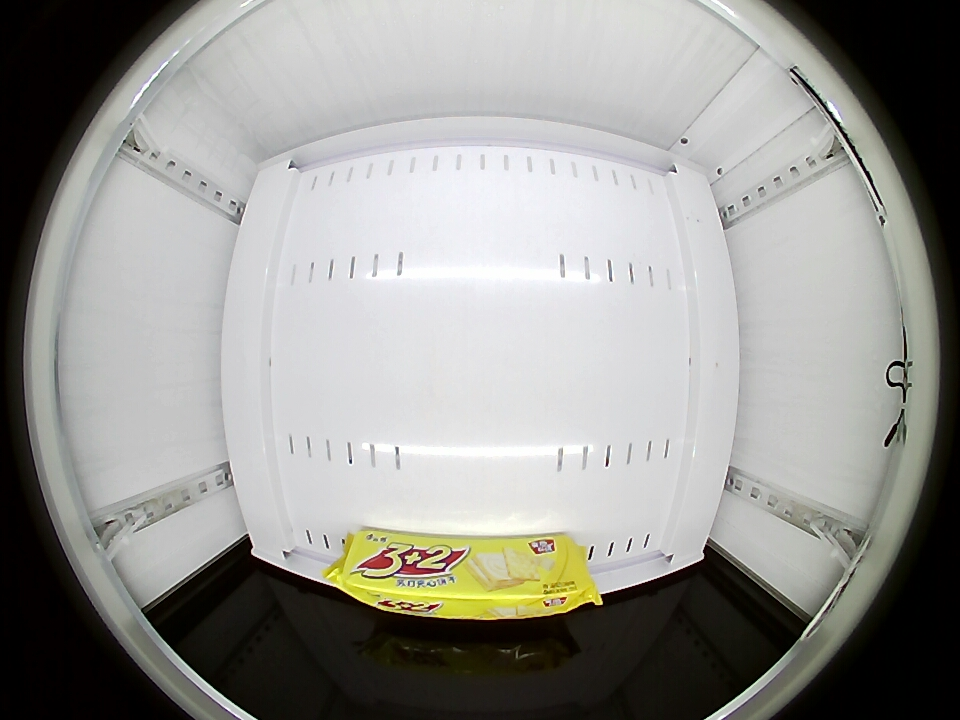3+2-2: (335, 532, 593, 619)
